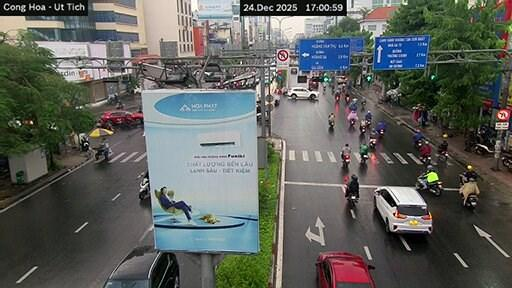motorbike: (416, 176, 443, 196), (138, 173, 149, 199), (475, 140, 494, 154), (94, 147, 112, 160), (462, 194, 477, 209), (96, 119, 114, 130), (501, 152, 511, 171), (116, 118, 134, 128), (346, 193, 357, 206), (80, 137, 89, 151), (438, 150, 448, 162), (341, 153, 349, 167), (420, 154, 431, 164), (413, 140, 422, 150), (369, 138, 377, 149), (360, 153, 368, 163), (115, 101, 124, 109), (377, 129, 385, 138), (274, 94, 279, 106), (359, 125, 366, 133), (345, 94, 350, 104), (365, 119, 371, 127), (328, 120, 334, 128), (361, 99, 365, 110), (349, 119, 355, 126), (335, 93, 339, 102)
